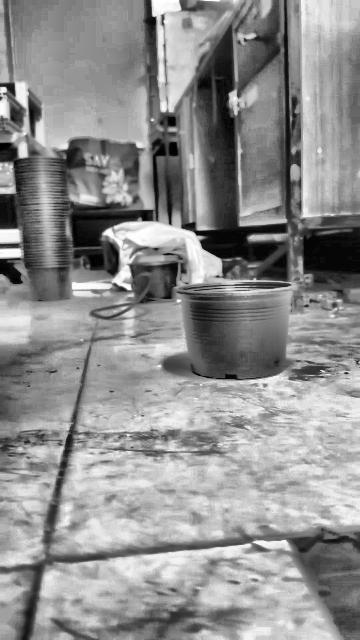pot: (176, 281, 295, 380)
